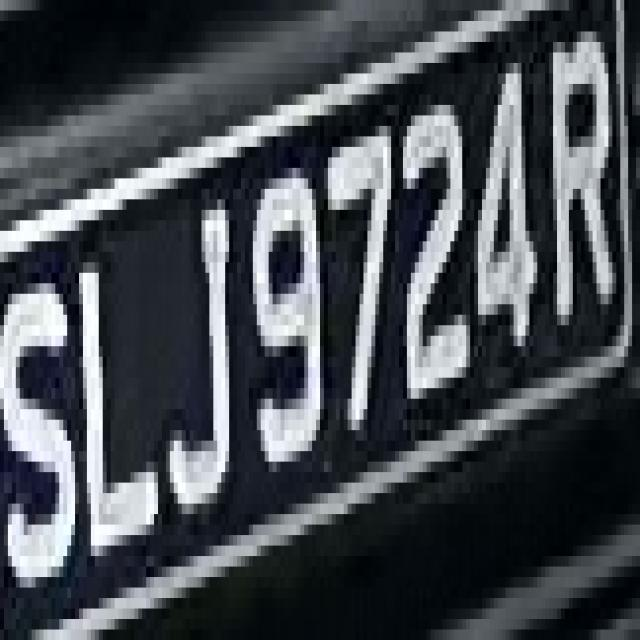2: (387, 63, 474, 420)
4: (458, 42, 542, 367)
7: (320, 94, 411, 462)
9: (225, 105, 332, 472)
J: (150, 147, 241, 545)
L: (75, 189, 162, 598)
R: (537, 0, 624, 325)
S: (8, 231, 75, 608)
